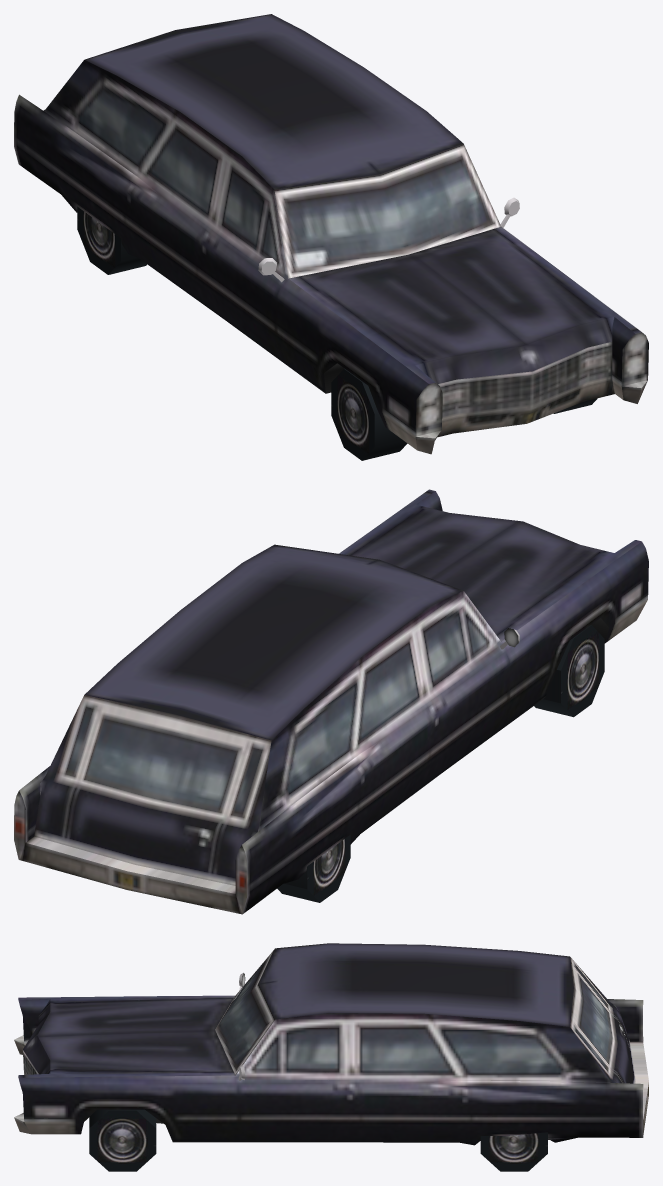
File: cadillac_miller_meteor_funeral_coach_hearse.glb
The picture shows the model from 3 angles, top to bottom: view 1: azimuth 30°, elevation 25°; view 2: azimuth 150°, elevation 25°; view 3: azimuth 270°, elevation 25°; orthographic projection. The views are drawn at different scales.
Parts seen in each view (by area): view 1: unnamed, unnamed.010, unnamed.013; view 2: unnamed, unnamed.010, unnamed.013; view 3: unnamed, unnamed.011, unnamed.012.
Boxes of the visible parts, <box> form: unnamed: <box>14,14,648,454</box>; unnamed.010: <box>331,368,407,460</box>; unnamed.013: <box>77,206,146,274</box>; unnamed: <box>14,489,648,914</box>; unnamed.010: <box>534,625,604,717</box>; unnamed.013: <box>277,835,350,902</box>; unnamed: <box>14,943,648,1145</box>; unnamed.011: <box>89,1109,156,1171</box>; unnamed.012: <box>480,1132,547,1171</box>.
Size of the model in its own units: 1.85 by 1.37 by 5.07.
Materials: 2 (2 with a texture image).
